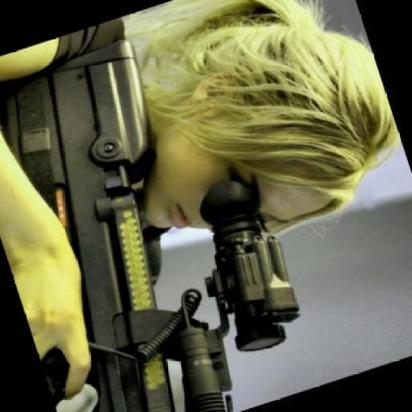Gun: (0, 13, 316, 412)
